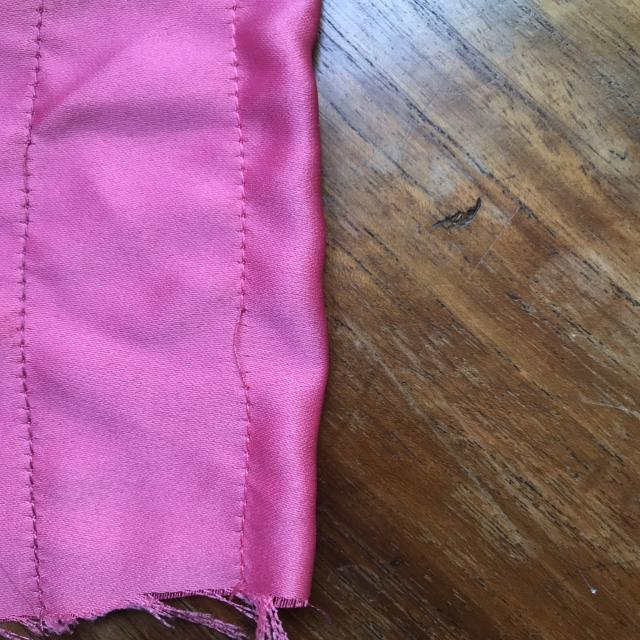skip: (194, 287, 269, 393)
